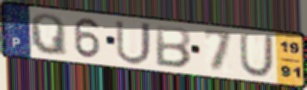6: (72, 16, 103, 61)
7: (202, 28, 234, 75)
B: (153, 24, 193, 70)
Q: (28, 12, 69, 58)
U: (114, 18, 153, 67), (238, 32, 275, 79)
